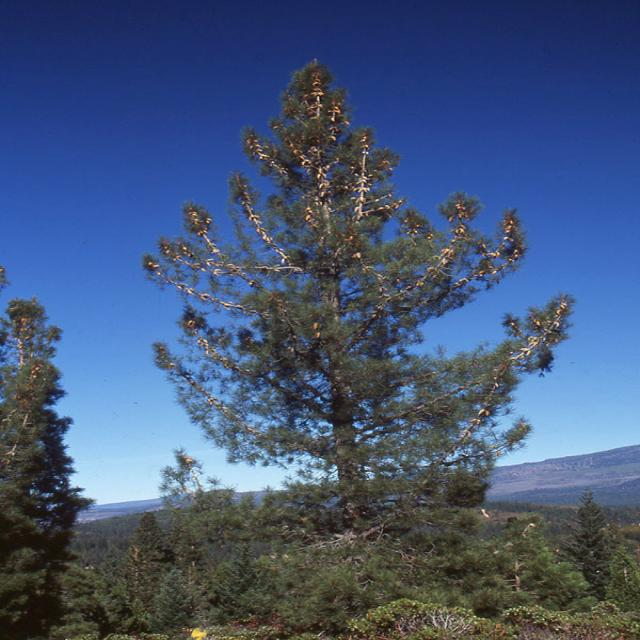Chrysolepis chrysophylla: (137, 53, 576, 570)
